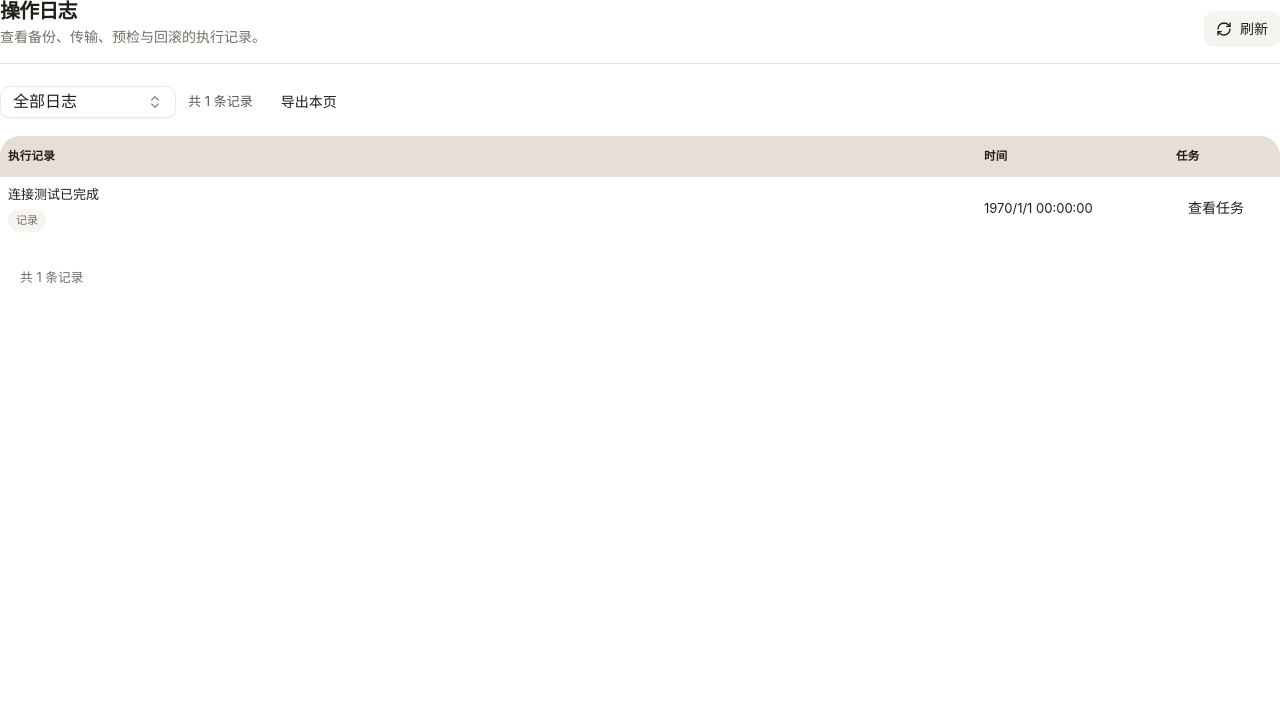
Test case: 备份后台 › 历史日志仍能打开对应任务详情
Click the button "查看任务". click: (1216, 208)
box: [1176,192,1256,224]
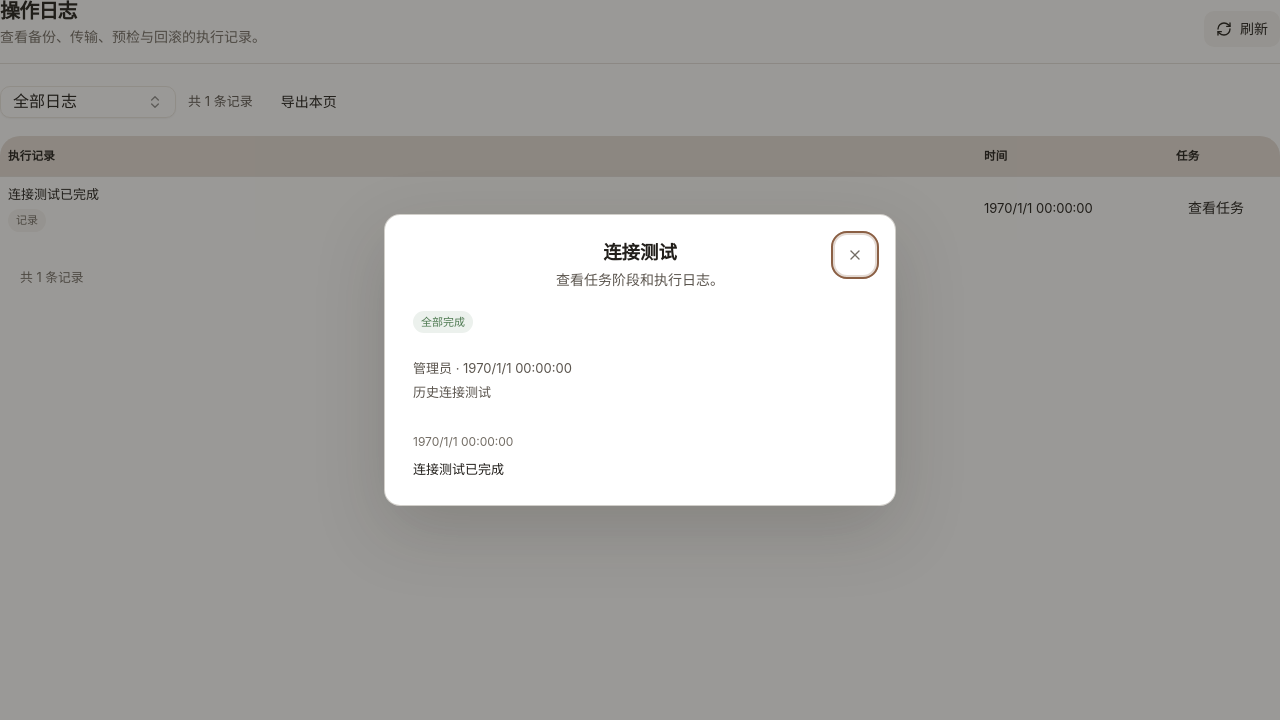
Now the dialog "连接测试" is shown, box [384,214,896,506]
Now the dialog "连接测试" shows "历史连接测试", box [413,384,491,400]
